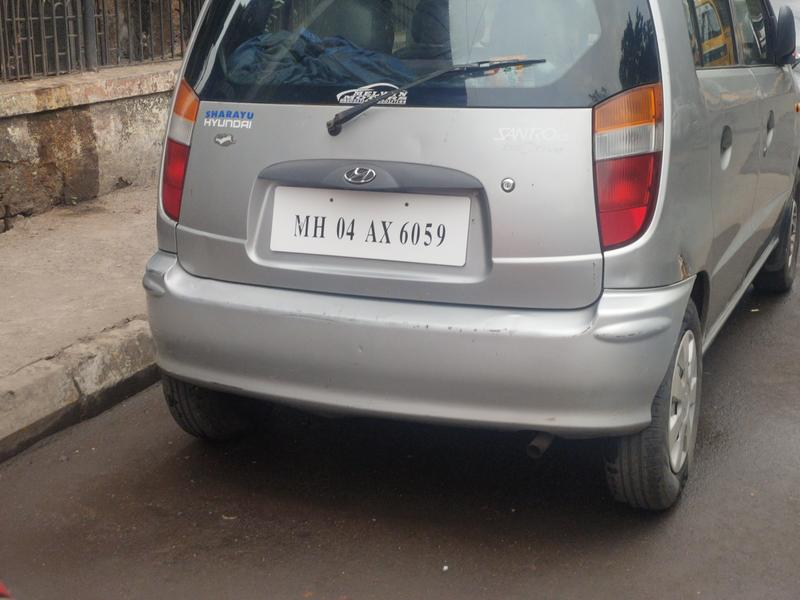license_plate: (266, 176, 470, 277)
